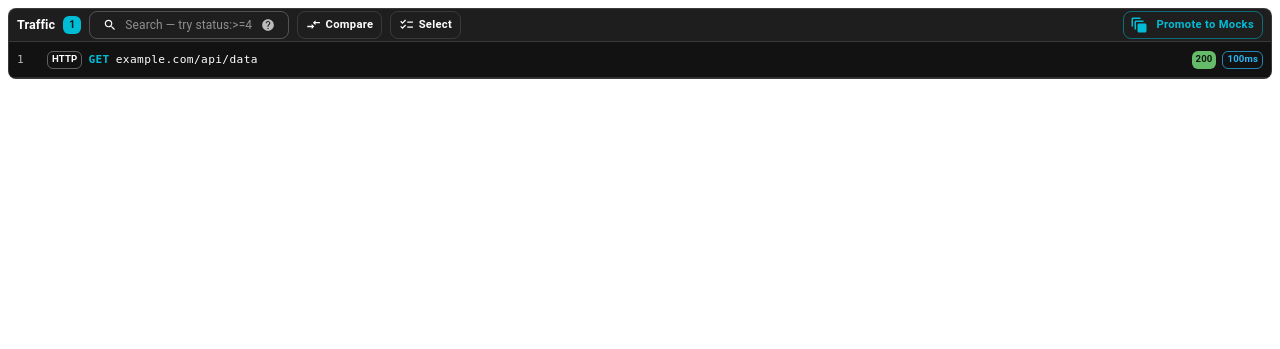
Test case: TrafficInspector — per-request timing display › renders injected chaos-latency segment and the injected/real legend for a proxied response
Click the text "example.com/api/data": (187, 59) 116,53 -> 258,66
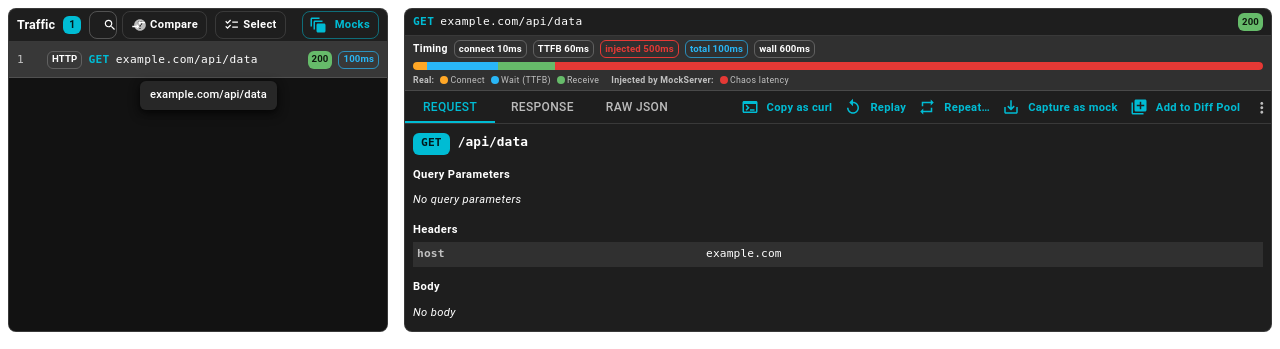
Check: the element with test id "timing-waterfall" is shown, box 405,36 -> 1271,91
Check: the element with test id "timing-segment-connect" is shown, box 413,62 -> 427,70
Check: the element with test id "timing-segment-injected-chaos" is shown, box 555,62 -> 1263,70
